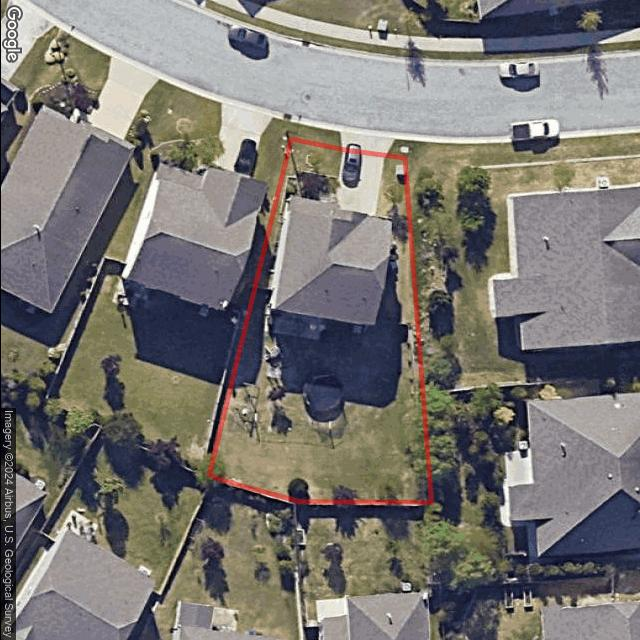Driveway: (335, 149, 383, 216)
Extra-Driveway: (338, 130, 395, 157)
Extra-Lawn: (292, 123, 340, 150), (385, 139, 408, 159)
House: (271, 195, 390, 326)
Lawn: (208, 138, 430, 503)
Other: (305, 374, 342, 416), (273, 311, 323, 339), (284, 176, 336, 201)
Sidewalk: (313, 190, 335, 205)
